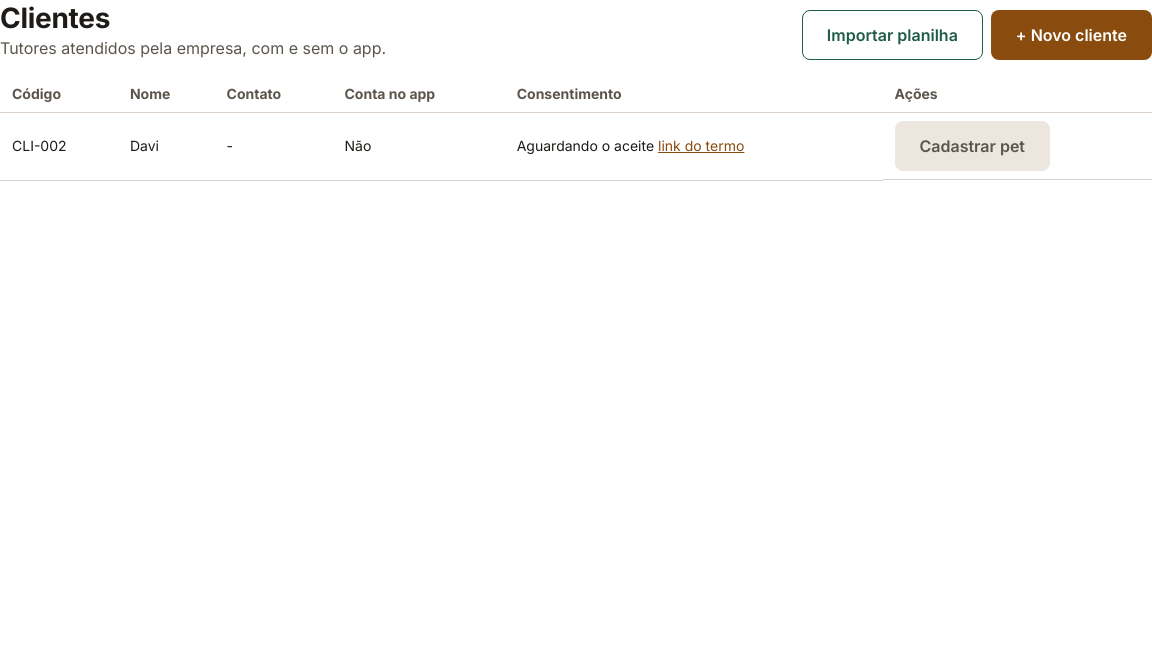
Test case: UC-21 · Clientes na web › CT-21-02: deve deixar o pré-cadastro sem pet até o aceite do termo
Step 1. Click the button "+ Novo cliente" → (1071, 35), box [991, 10, 1151, 60]
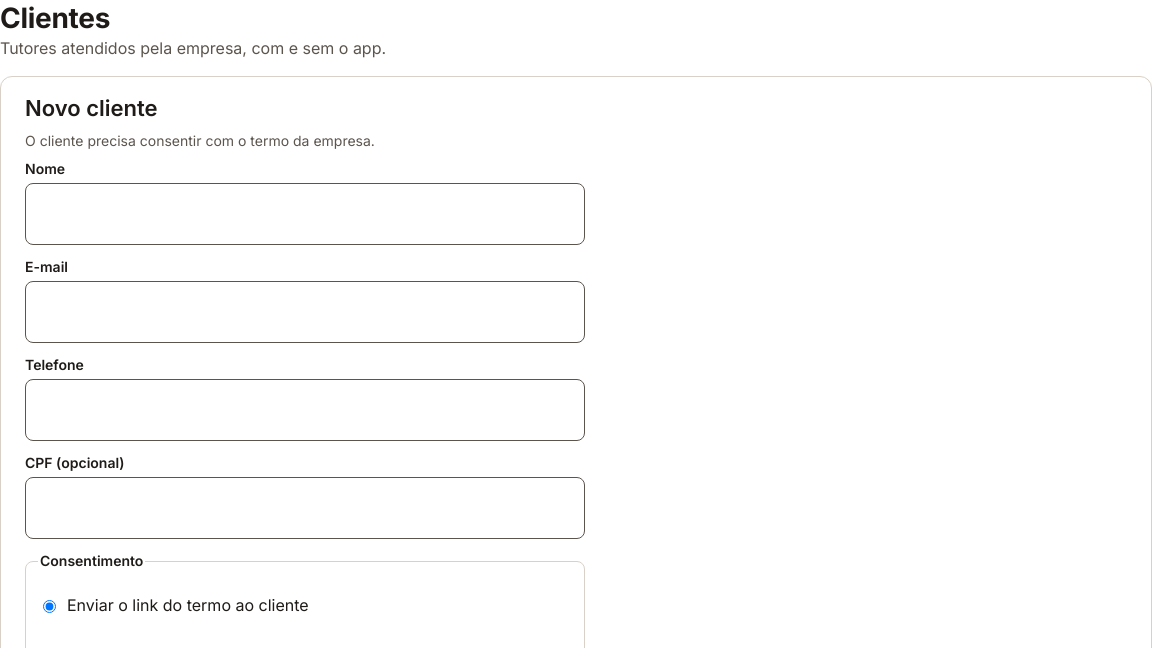
Step 2. Type "Eva" into the field labelled "Nome" → (305, 214), box [25, 183, 585, 245]
(page scrolled)
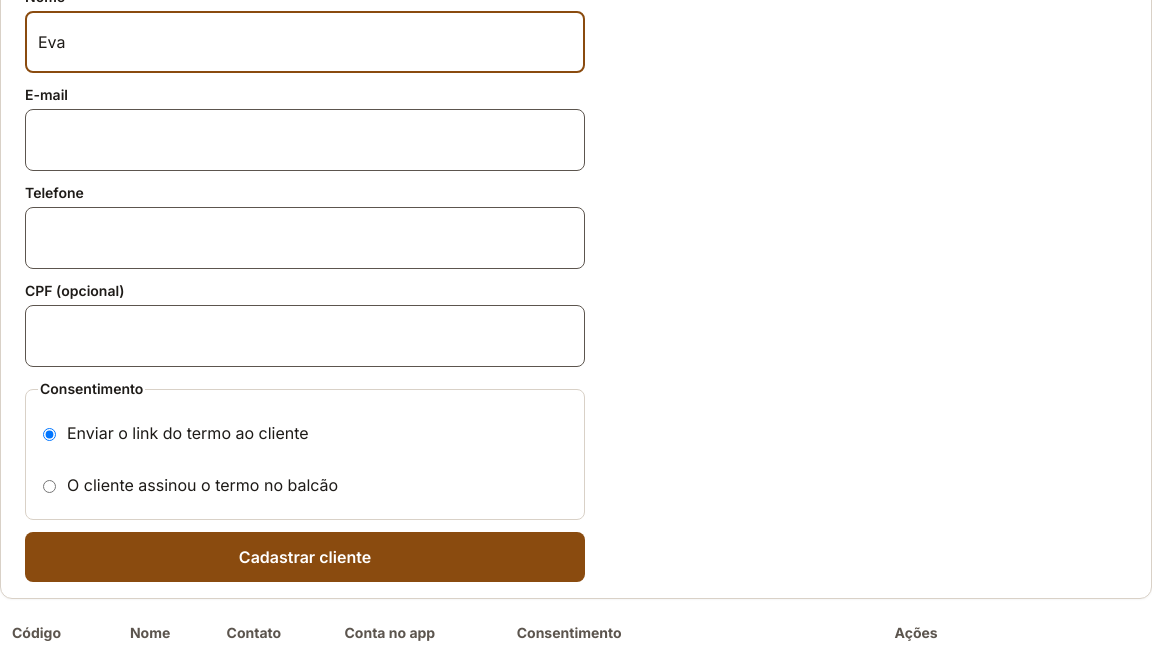
Step 3. Click the button "Cadastrar cliente" → (305, 557), box [25, 532, 585, 582]
(page scrolled)
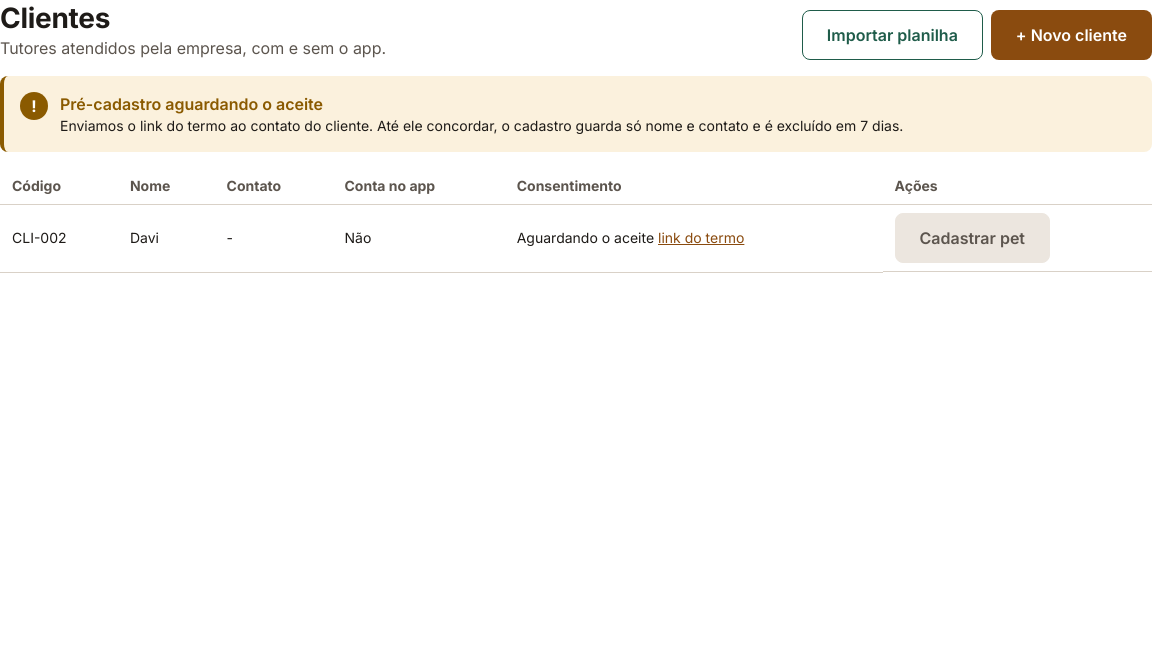
expect the text "Pré-cadastro aguardando o aceite" is shown: met, box [59, 93, 323, 114]
